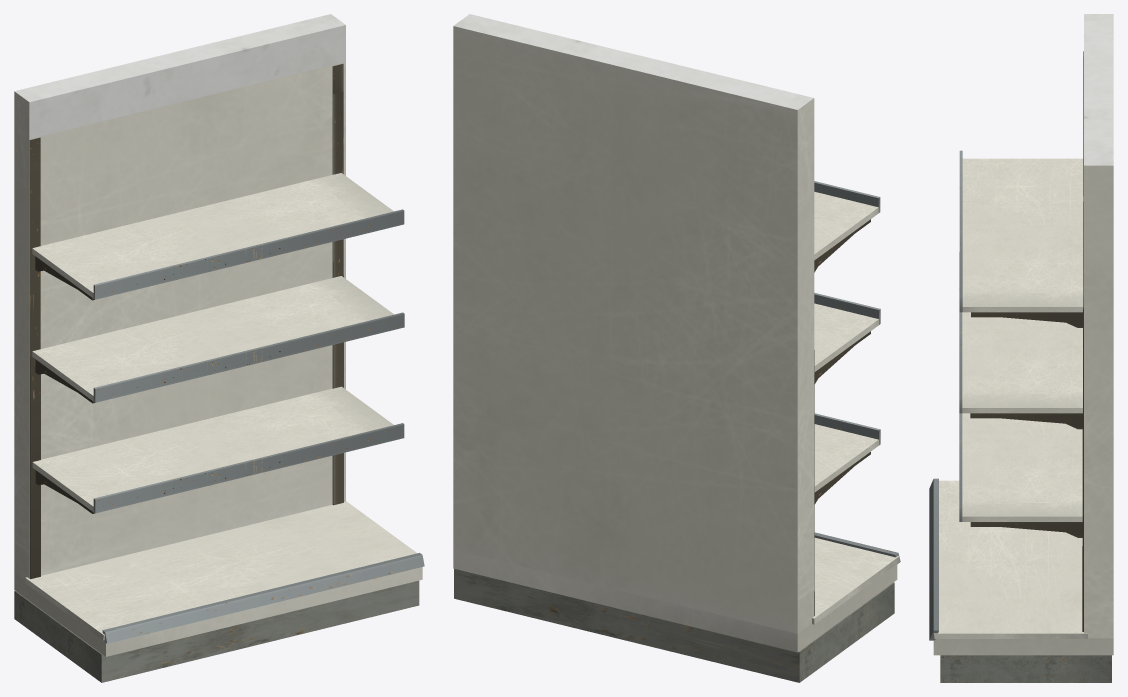
Rendered from convshelf1b.fbx.
3 views of the same model, side by side, from view 1: azimuth 30°, elevation 25°; view 2: azimuth 150°, elevation 25°; view 3: azimuth 270°, elevation 25° (orthographic). The views are drawn at different scales.
Parts seen in each view (by area): view 1: convshelf1b; view 2: convshelf1b; view 3: convshelf1b.
Part boxes in pixels (x1,y1,x2,y2): convshelf1b: (14, 14, 424, 682); convshelf1b: (453, 14, 900, 682); convshelf1b: (929, 14, 1113, 682).
Bounding box in the file's own units: 120 × 189 × 61.03.
